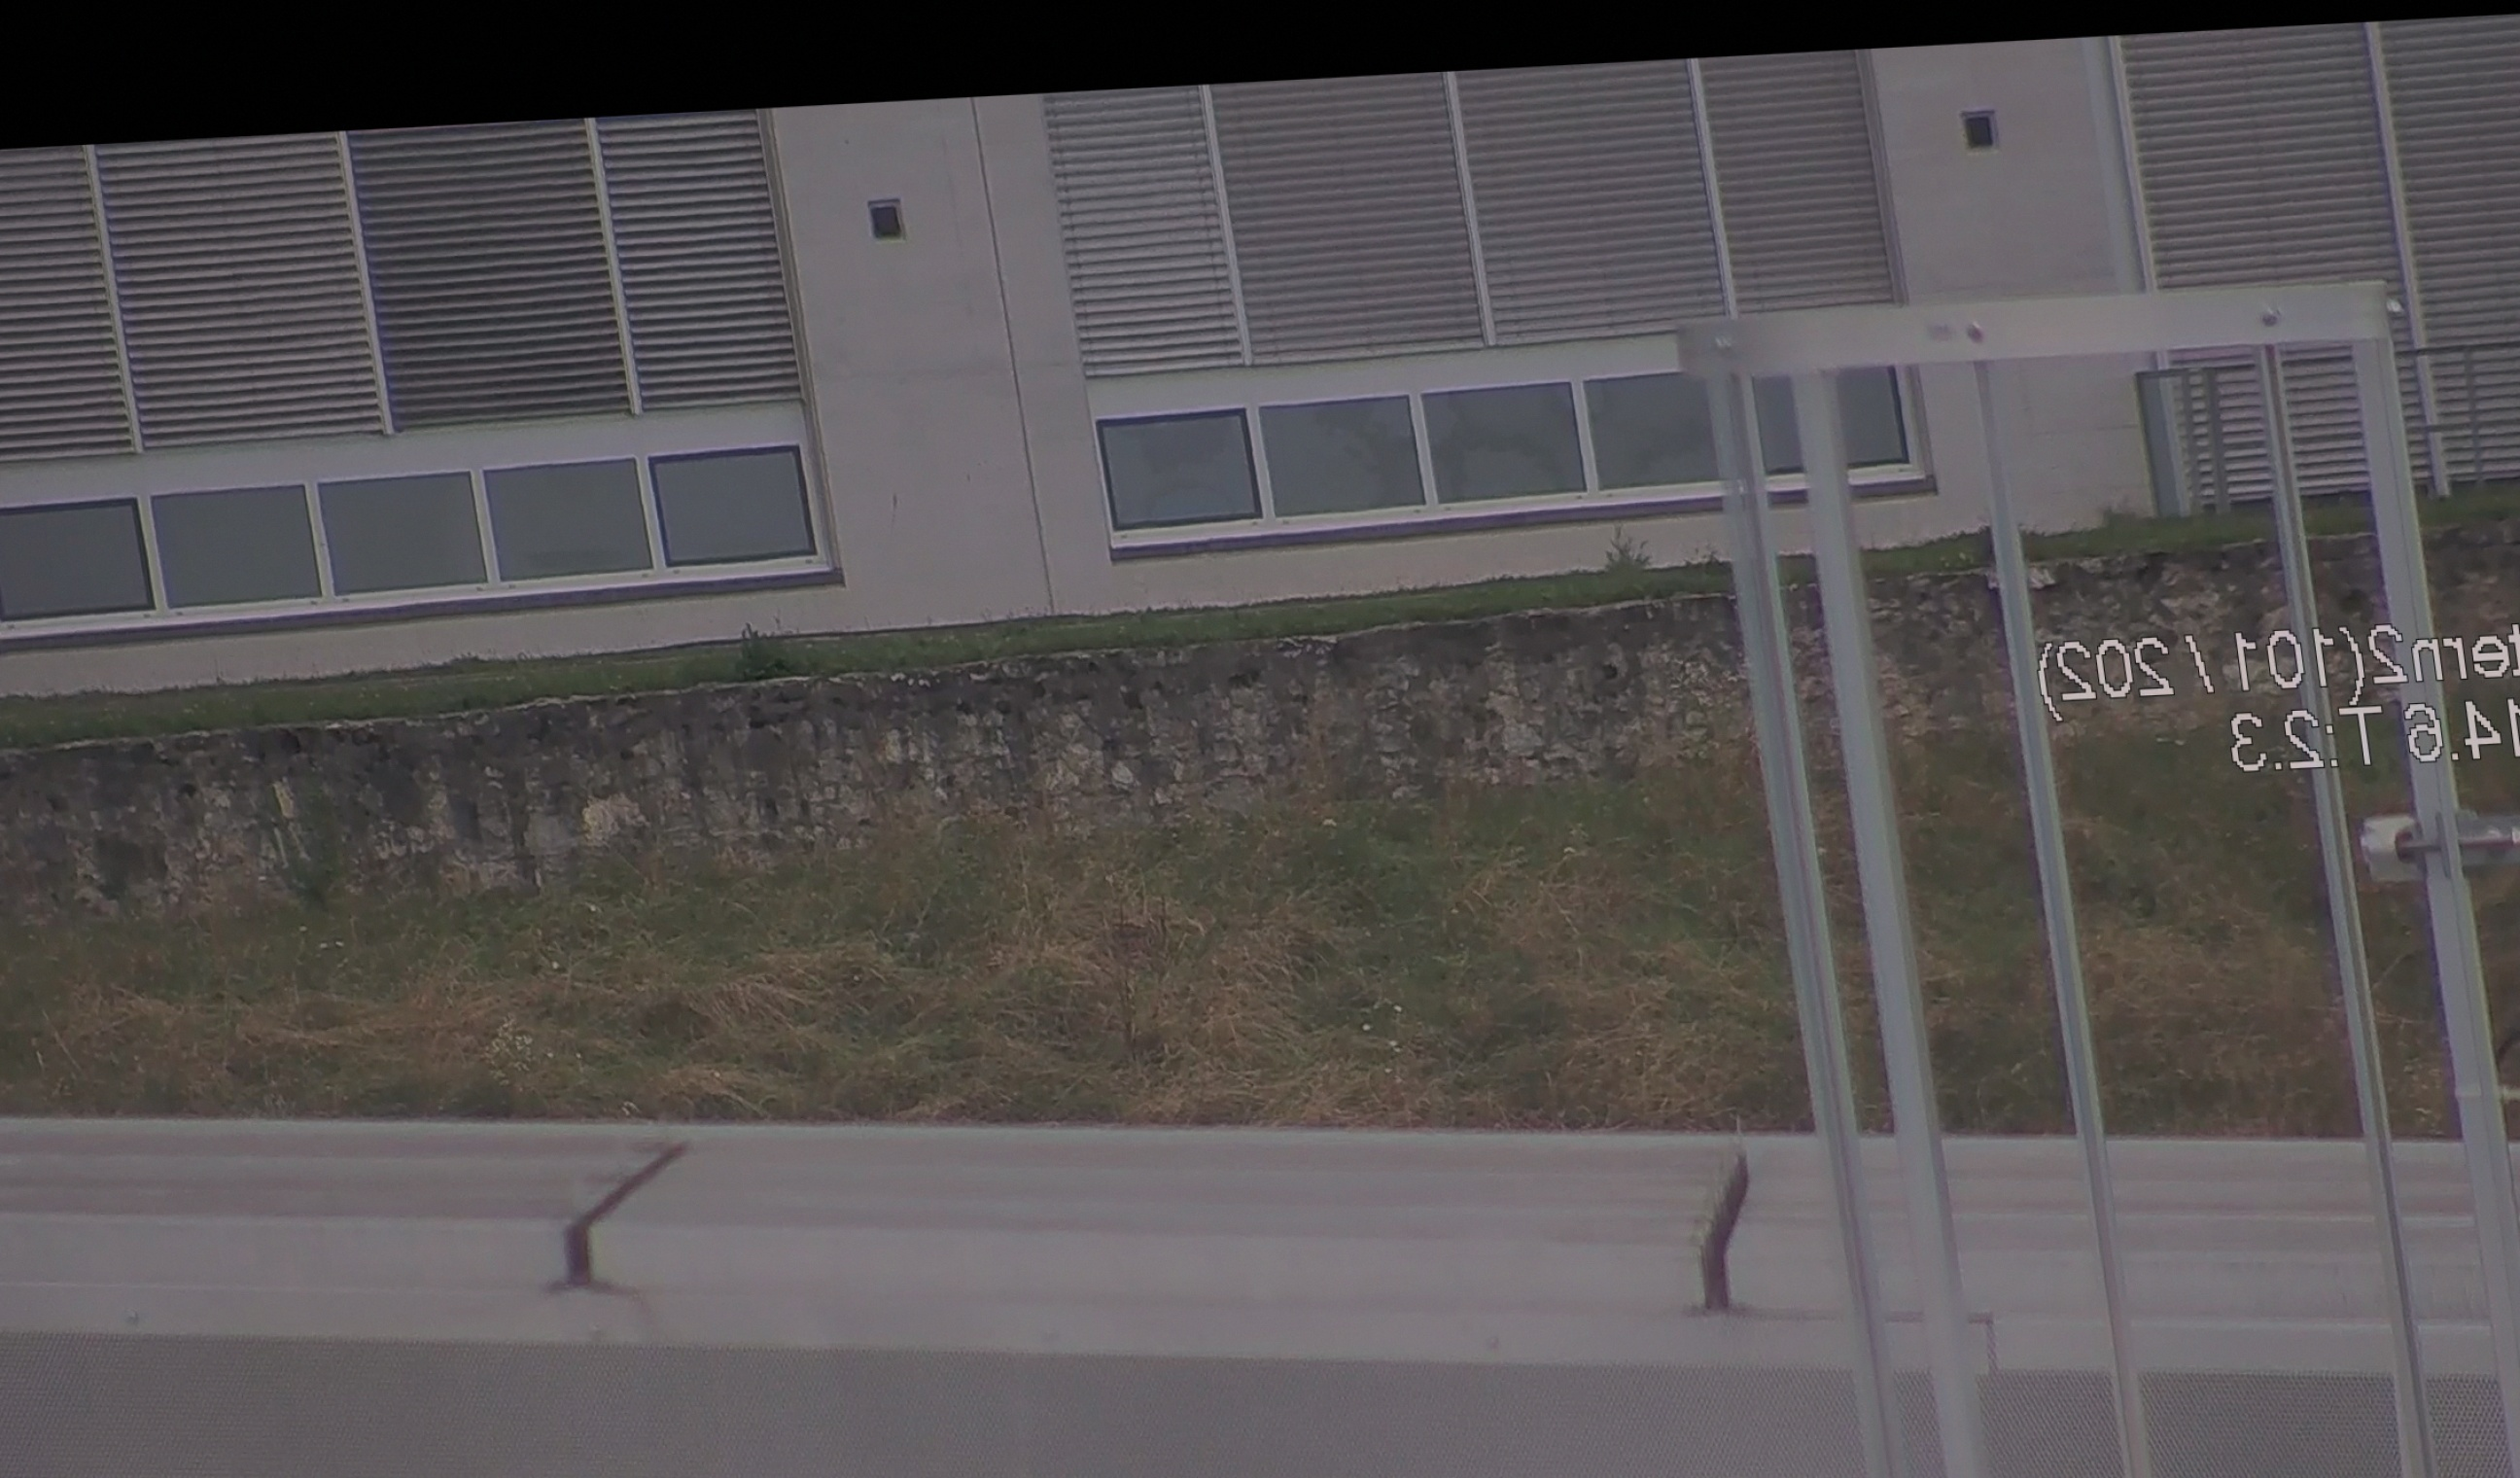Other: (1660, 1121, 1790, 1334)
